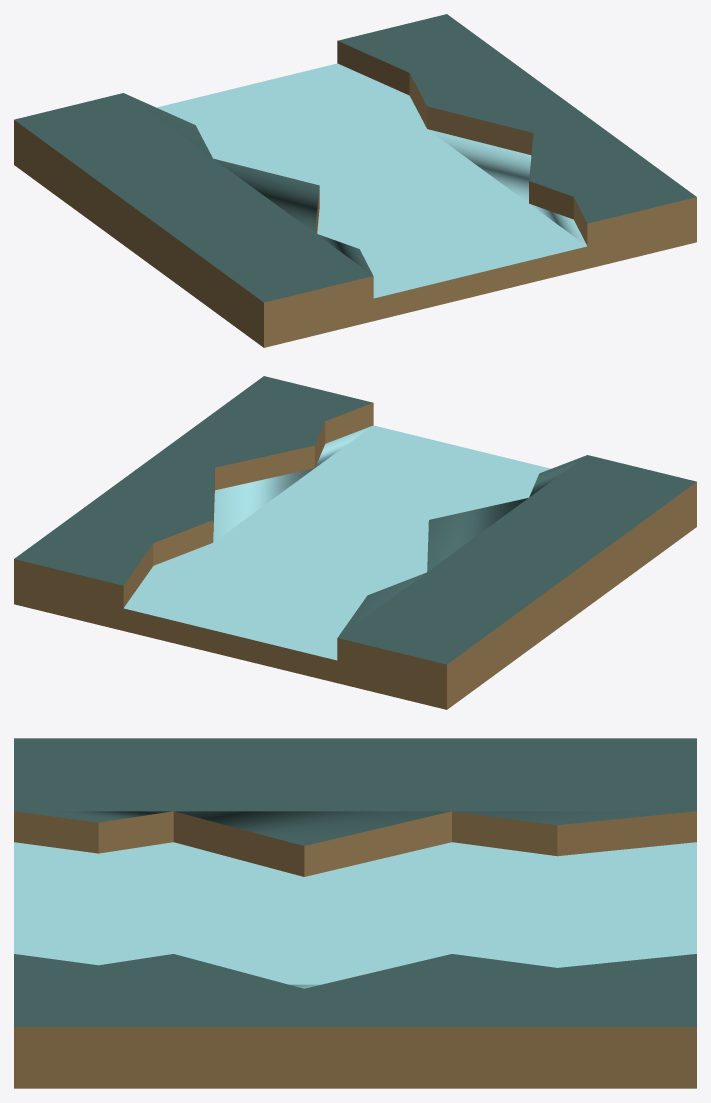
Rendered from naturePack_002.obj.
The picture shows the model from 3 angles, top to bottom: view 1: azimuth 30°, elevation 25°; view 2: azimuth 150°, elevation 25°; view 3: azimuth 270°, elevation 25°; orthographic projection. The views are drawn at different scales.
Parts seen in each view (by area): view 1: Mesh1_Plate_River_Dirt_Model; view 2: Mesh1_Plate_River_Dirt_Model; view 3: Mesh1_Plate_River_Dirt_Model.
Part boxes in pixels (x1=…): Mesh1_Plate_River_Dirt_Model: x1=14, y1=14, x2=696, y2=347; Mesh1_Plate_River_Dirt_Model: x1=14, y1=376, x2=696, y2=709; Mesh1_Plate_River_Dirt_Model: x1=14, y1=738, x2=696, y2=1088.
Bounding box in the file's own units: 3 × 0.3 × 3.
